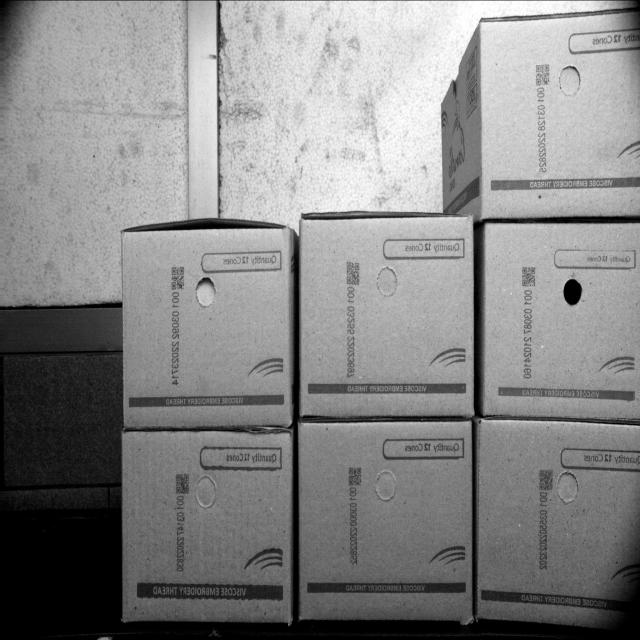cardboxes: (293, 420, 476, 637), (296, 211, 478, 422), (119, 223, 296, 427), (476, 423, 639, 632), (481, 8, 640, 214), (481, 217, 640, 422), (122, 436, 290, 620)
